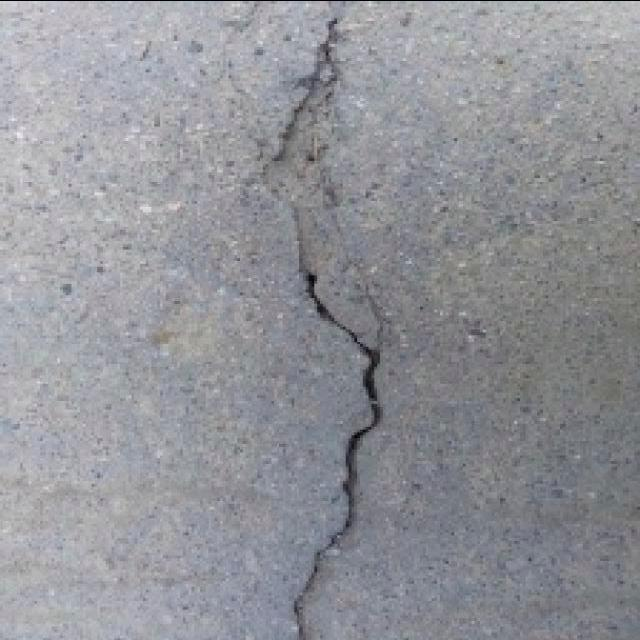SurfaceCrack: (242, 0, 396, 640)
